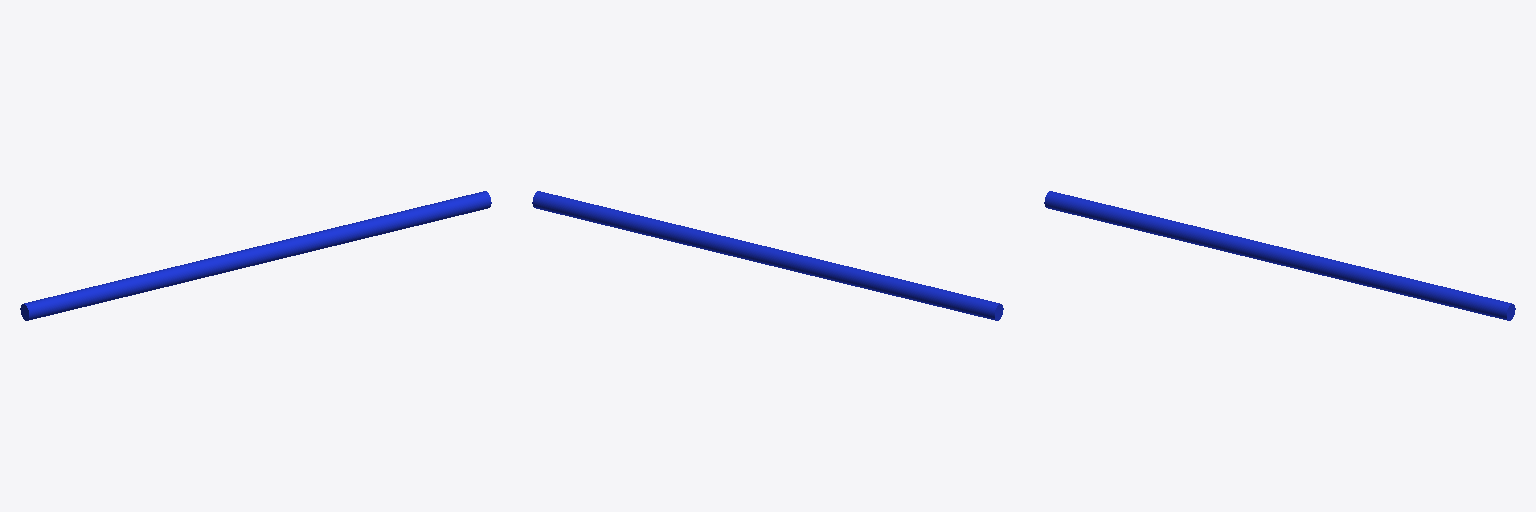
The robot description file, URDF, robot "cb_pen_d50":
<?xml version="1.0"?>
<!-- A30 pen search rod. Generated by FoundationTouch tools/contactbench/pen_tasks.py -->
<robot name="cb_pen_d50">
  <material name="c"><color rgba="0.15 0.25 0.85 1.0"/></material>
  <link name="object">
    <visual><origin xyz="0 0 0" rpy="0 0 0"/><geometry><mesh filename="rod.obj" scale="1 1 1"/></geometry><material name="c"/></visual>
    <collision><origin xyz="0 0 0" rpy="0 0 0"/><geometry><mesh filename="rod.obj" scale="1 1 1"/></geometry></collision>
    <inertial><mass value="3.500000e-03"/><origin xyz="0 0 0" rpy="0 0 0"/><inertia ixx="1.086745e-08" ixy="0" ixz="0" iyy="6.567934e-06" iyz="0" izz="6.567934e-06"/></inertial>
  </link>
</robot>

--- Facts derived from the render (not from the file) ---
3 views of the same robot in one strip: view 1: azimuth 30°, elevation 25°; view 2: azimuth 150°, elevation 25°; view 3: azimuth 330°, elevation 25° (orthographic).
Model cb_pen_d50 with 1 links and 0 joints (none), rooted at object, posed every joint at zero.
Links seen in each view (by area): view 1: object; view 2: object; view 3: object.
Link boxes in pixels (x1=…): object: x1=20, y1=191, x2=491, y2=320; object: x1=532, y1=191, x2=1003, y2=320; object: x1=1044, y1=191, x2=1515, y2=320.
Bounding box of the posed robot: 0.15 × 0.005 × 0.005 m (x, y, z).
Meshes: 1 distinct files referenced, 1 mesh visuals loaded (1 OBJ).
